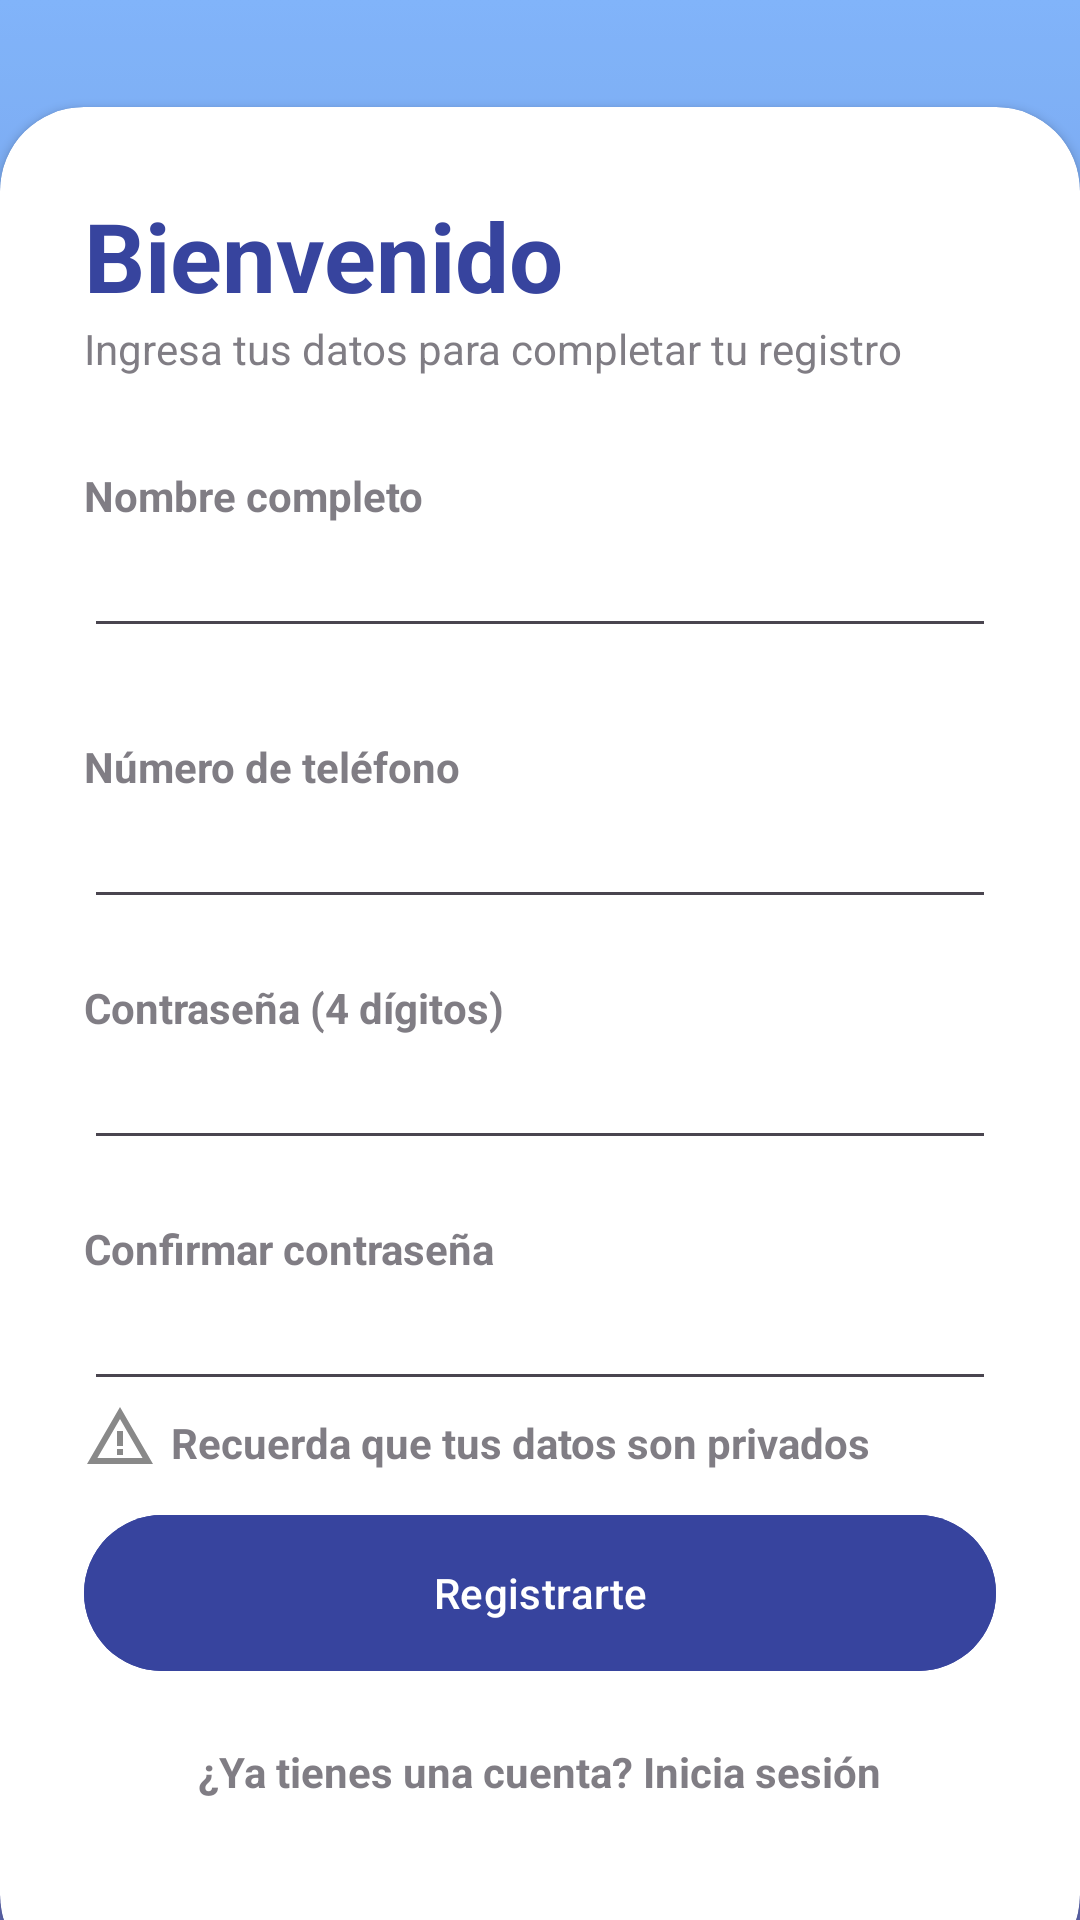

Where to tap for icons on this 1080x1920 app screen, as (x,y):
warning: (120,1435)
